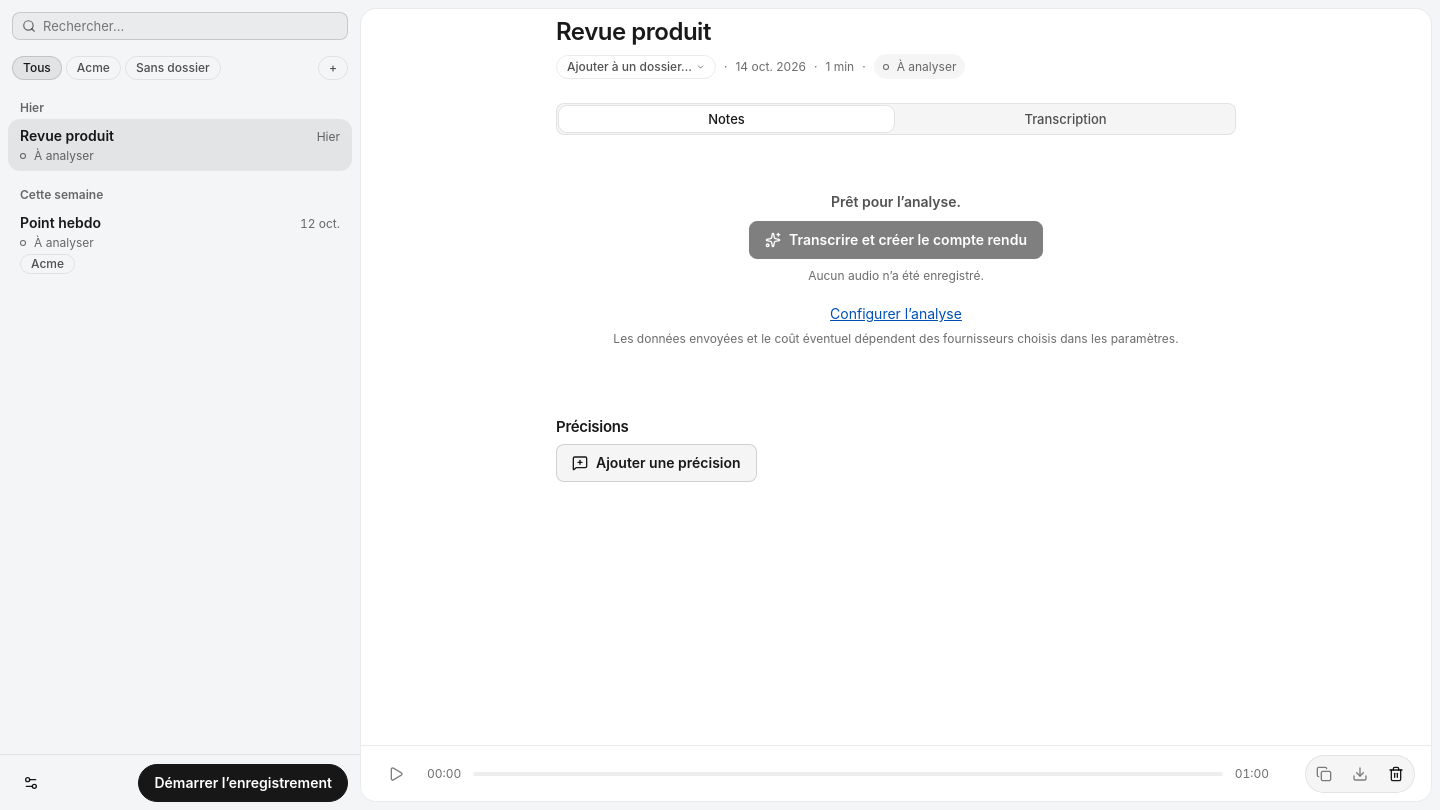
Test: The menu of a meeting row › says so, and keeps the row, when the deletion fails
Right-click the option "Point hebdo 12 oct. À analyser Acme".
right_click(60, 222)  # box [8,206,352,282]
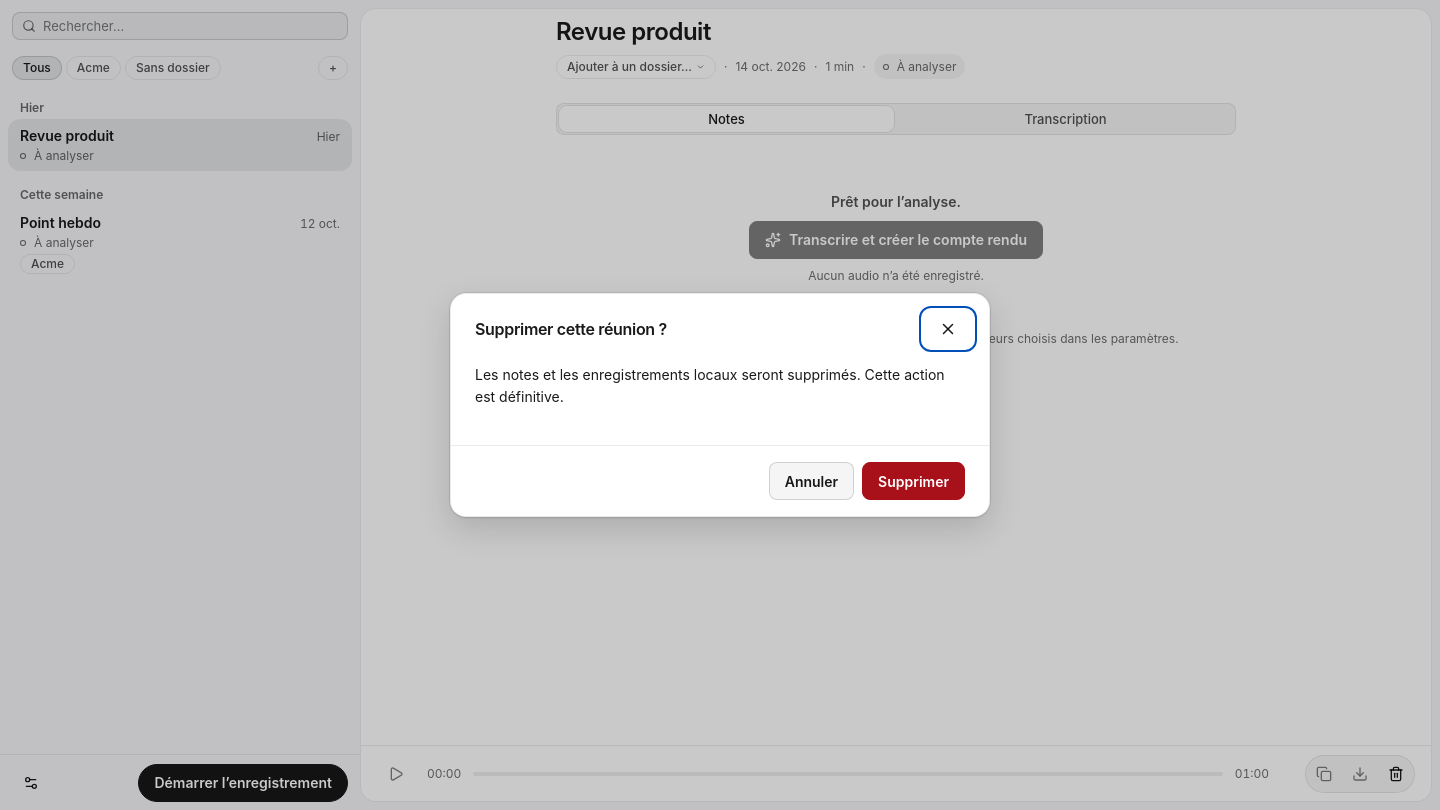
Click the button "Supprimer".
click(914, 481)  # box [862,462,965,500]
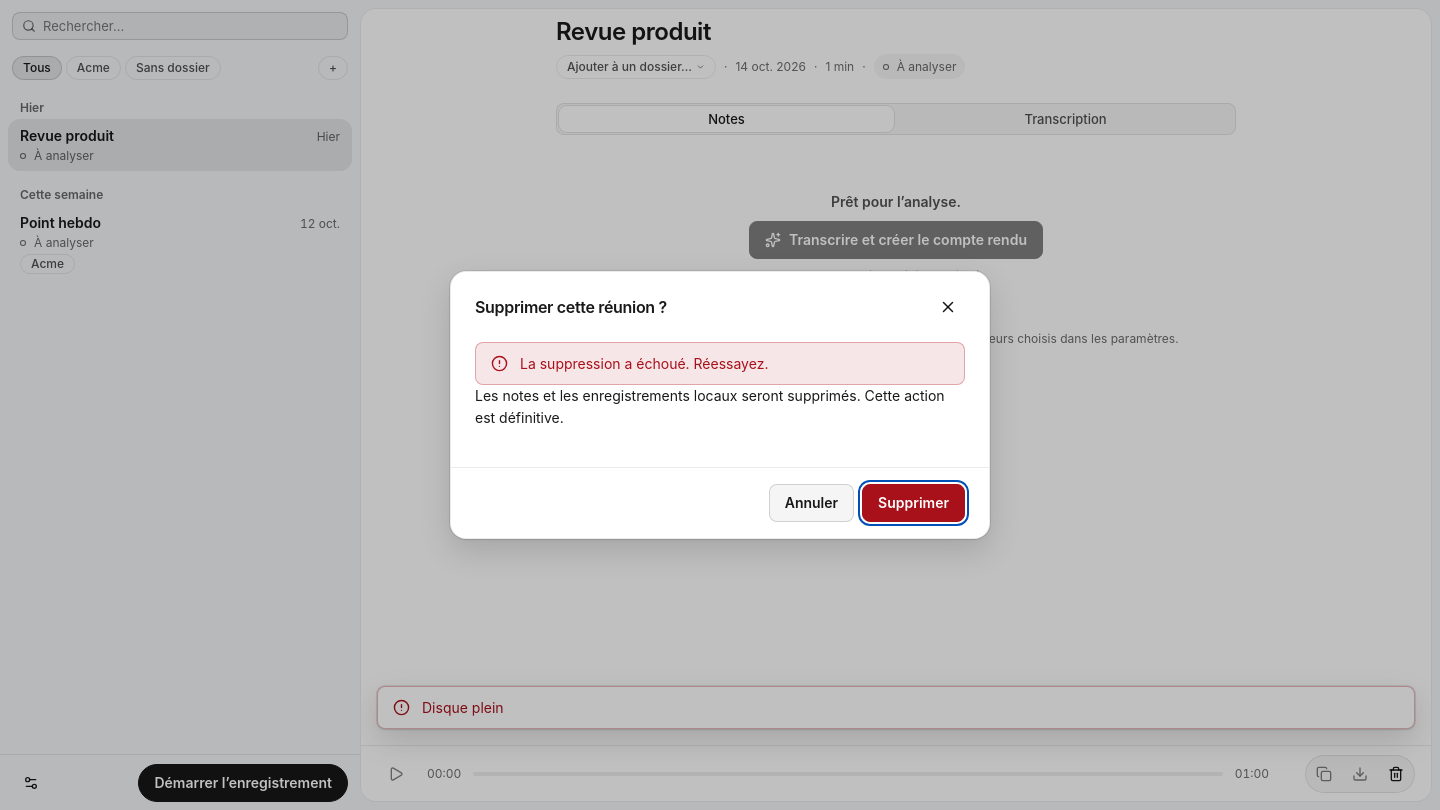
Expected: the option "Point hebdo 12 oct. À analyser Acme" is shown, [8,206,352,282]
Expected: the text "La suppression a échoué. Réessayez." is shown, [520,355,768,372]
